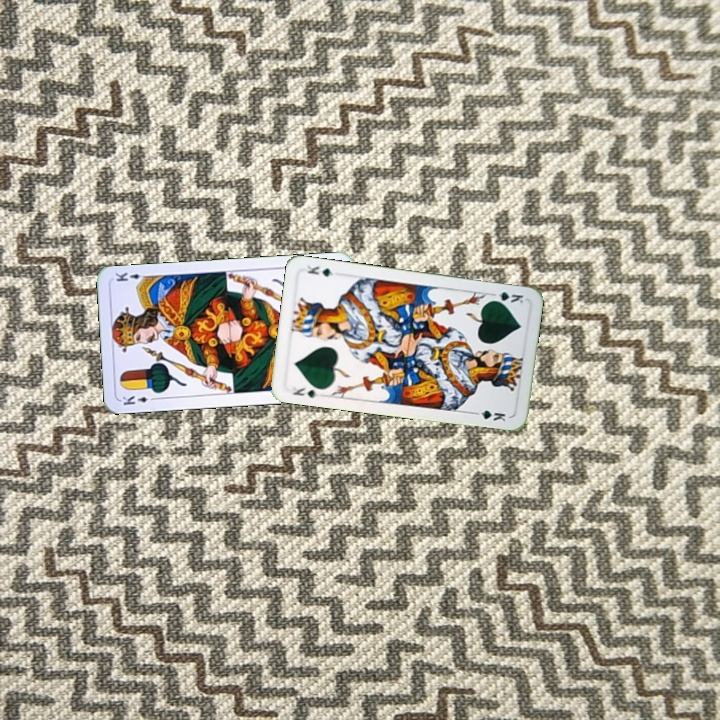EK: (118, 391, 159, 408)
GK: (486, 287, 526, 307), (286, 383, 322, 400)
